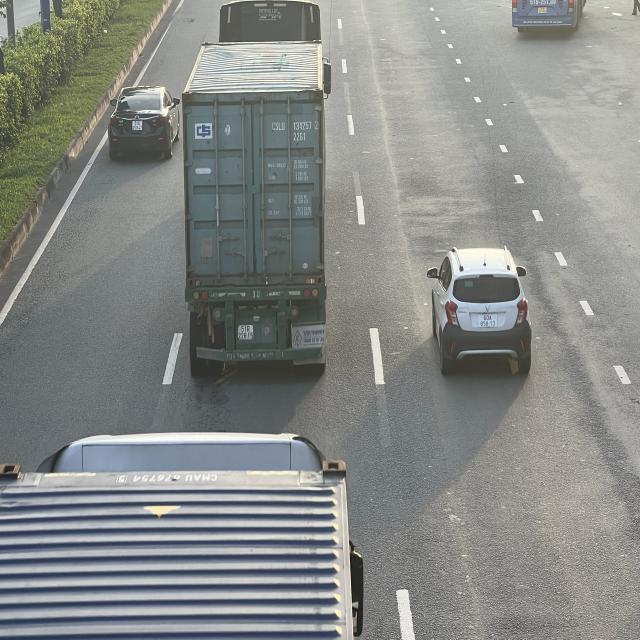car: (428, 245, 534, 376), (110, 86, 180, 162)
container: (184, 0, 336, 372)
